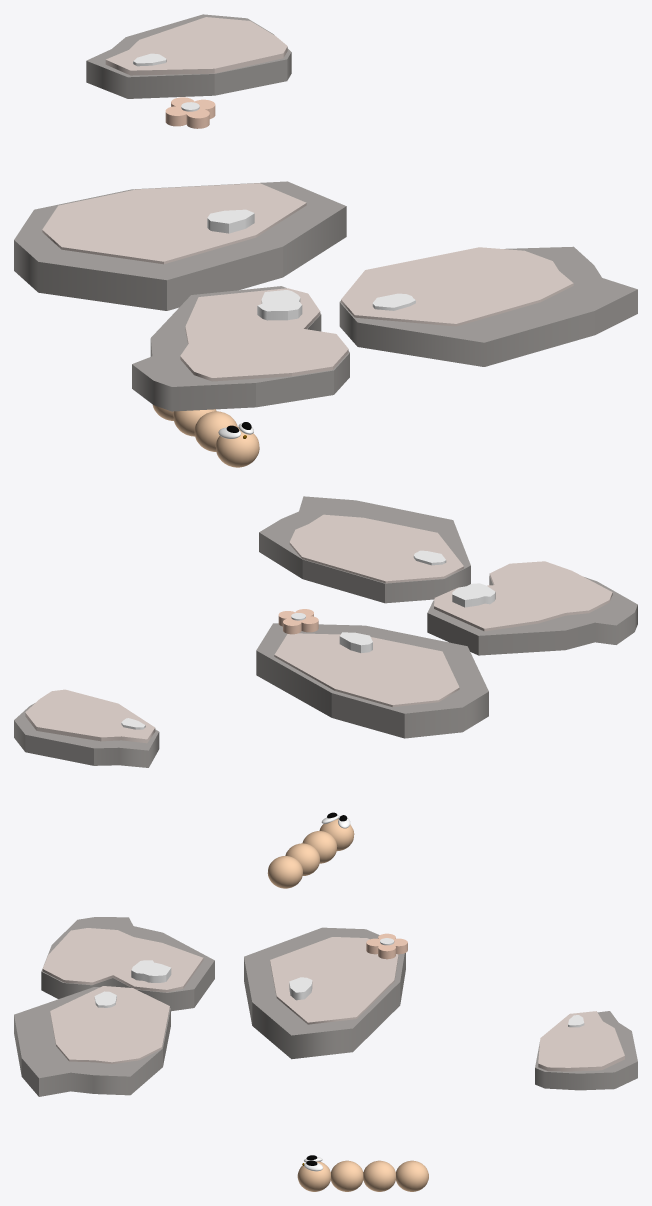
Rendered from moxin_fbx.fbx.
3 views of the same model, one above another, from view 1: azimuth 30°, elevation 25°; view 2: azimuth 150°, elevation 25°; view 3: azimuth 270°, elevation 25° (orthographic). The views are drawn at different scales.
Parts seen in each view (by area): view 1: rock4, rock3, rock2, rock1, head, flower1, pSphere10; view 2: rock4, rock3, rock2, rock1, pSphere12, flower1, head, pSphere11, pSphere10; view 3: rock4, rock3, rock2, rock1, head, pSphere11, pSphere10, pSphere12, flower1.
Part boxes in pixels (x1=…): rock4: x1=14, y1=181, x2=346, y2=310; rock3: x1=339, y1=246, x2=637, y2=366; rock2: x1=132, y1=286, x2=349, y2=411; rock1: x1=86, y1=14, x2=291, y2=98; head: x1=215, y1=422, x2=259, y2=467; flower1: x1=165, y1=97, x2=215, y2=128; pSphere10: x1=194, y1=411, x2=237, y2=451; rock4: x1=256, y1=623, x2=488, y2=738; rock3: x1=259, y1=496, x2=470, y2=603; rock2: x1=427, y1=561, x2=637, y2=655; rock1: x1=14, y1=689, x2=159, y2=767; pSphere12: x1=267, y1=856, x2=302, y2=888; flower1: x1=278, y1=609, x2=318, y2=634; head: x1=319, y1=812, x2=354, y2=851; pSphere11: x1=285, y1=843, x2=319, y2=875; pSphere10: x1=302, y1=831, x2=337, y2=863; rock4: x1=244, y1=927, x2=405, y2=1059; rock3: x1=14, y1=986, x2=170, y2=1096; rock2: x1=41, y1=917, x2=214, y2=1011; rock1: x1=535, y1=1011, x2=637, y2=1090; head: x1=297, y1=1155, x2=330, y2=1191; pSphere11: x1=363, y1=1160, x2=395, y2=1191; pSphere10: x1=331, y1=1160, x2=363, y2=1191; pSphere12: x1=396, y1=1160, x2=428, y2=1191; flower1: x1=366, y1=933, x2=407, y2=959.
Bounding box in the file's own units: 27.01 × 18.7 × 42.45.
